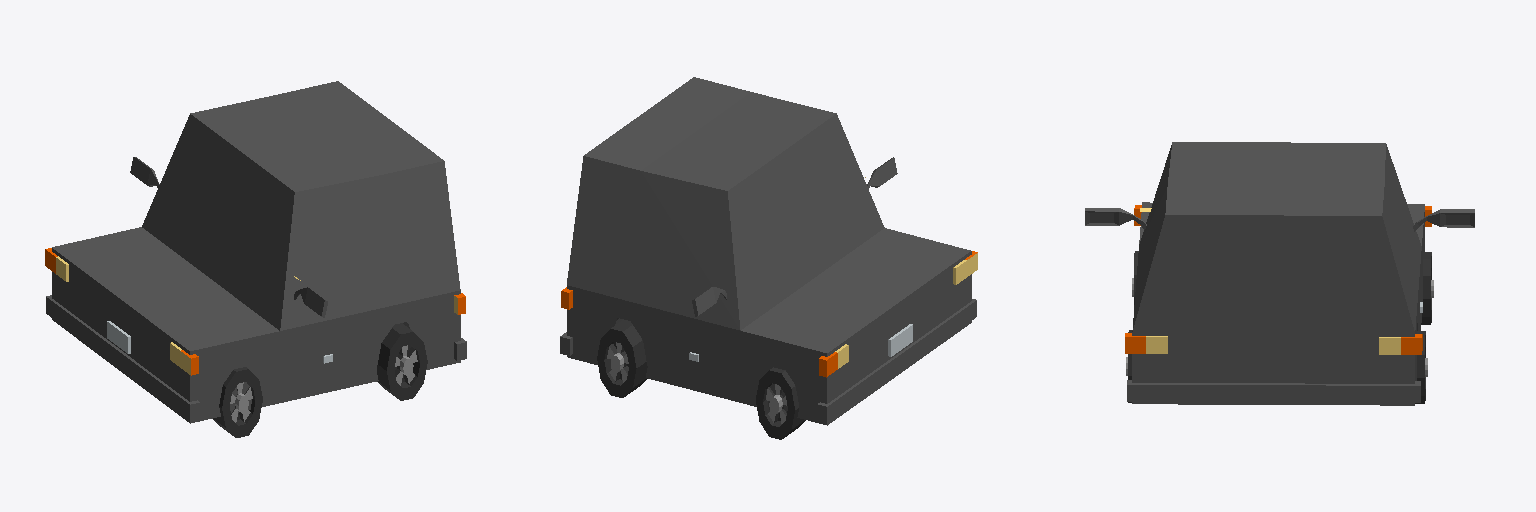
3 views of the same model, side by side, from view 1: azimuth 30°, elevation 25°; view 2: azimuth 150°, elevation 25°; view 3: azimuth 270°, elevation 25° (orthographic).
Parts seen in each view (by area): view 1: Carro; view 2: Carro; view 3: Carro.
Boxes of the visible parts, x1,y1,x2,y2 form: Carro: [45, 81, 466, 437]; Carro: [560, 77, 977, 439]; Carro: [1085, 142, 1474, 405].
Size of the model in its own units: 1.86 by 1.38 by 2.28.
Materials: 1 (1 with a texture image).